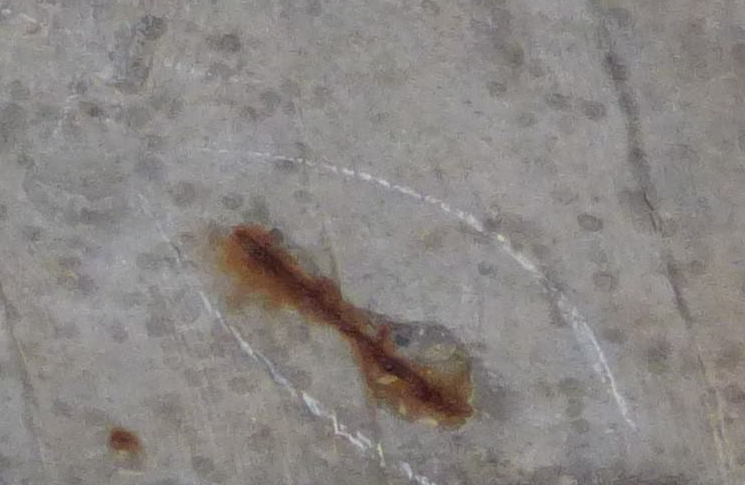Corrosion: (106, 429, 139, 454)
Exposed reinforcement: (234, 230, 470, 419)
Spalling: (349, 310, 479, 432)
